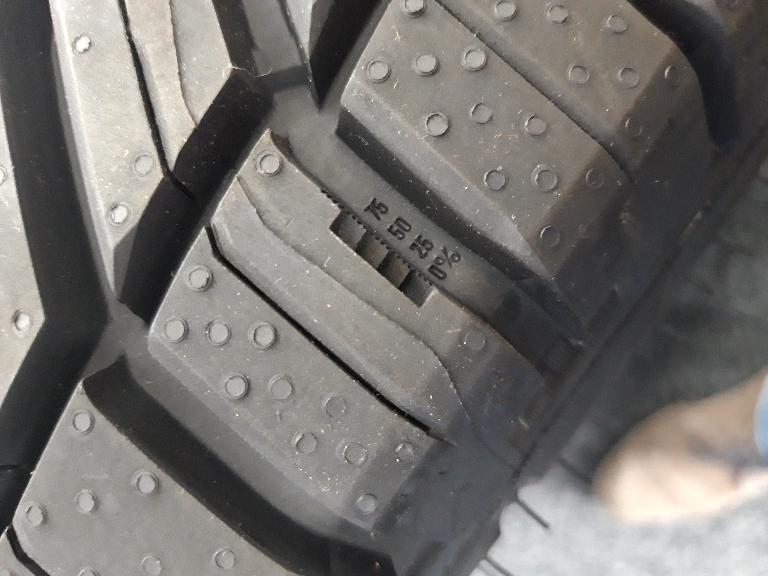temoin:100: (315, 185, 441, 313)
